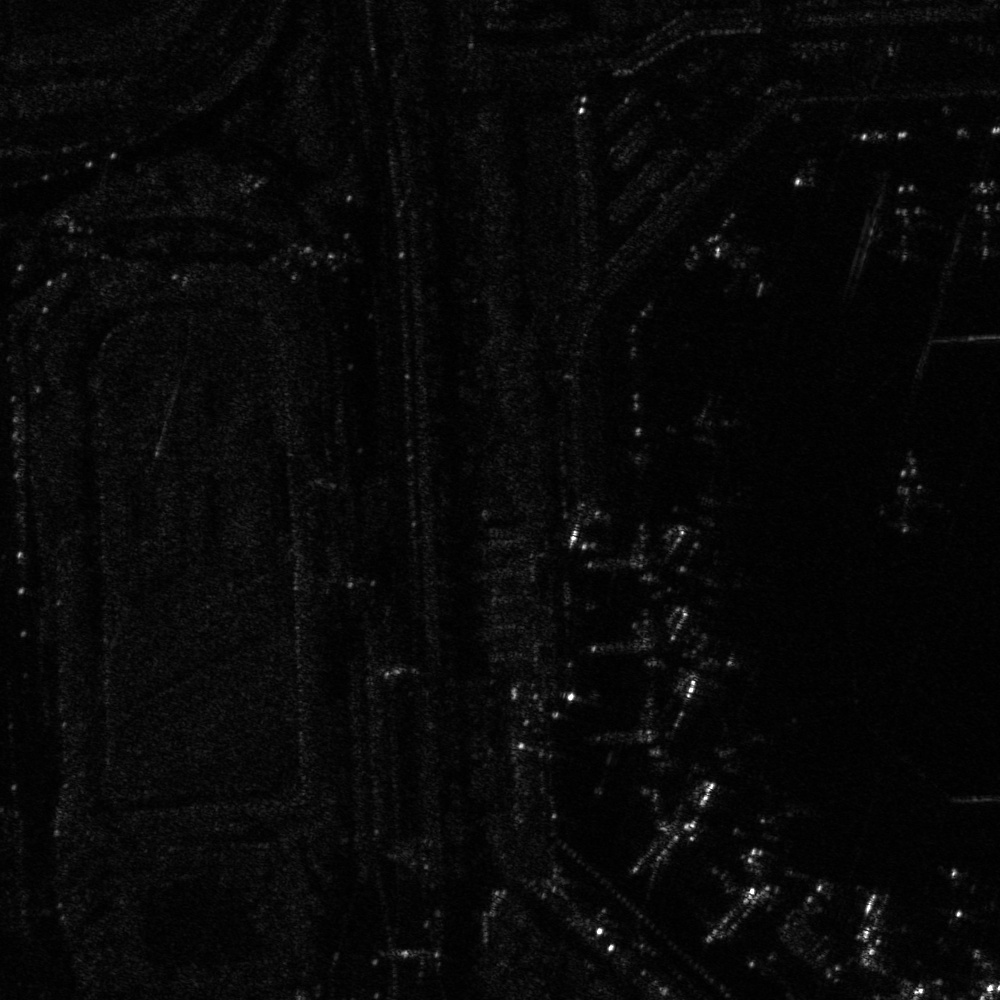A220: (715, 706, 815, 796), (657, 391, 745, 452), (712, 239, 779, 300)
Boeing737: (860, 176, 946, 267)
other: (868, 449, 952, 537)
